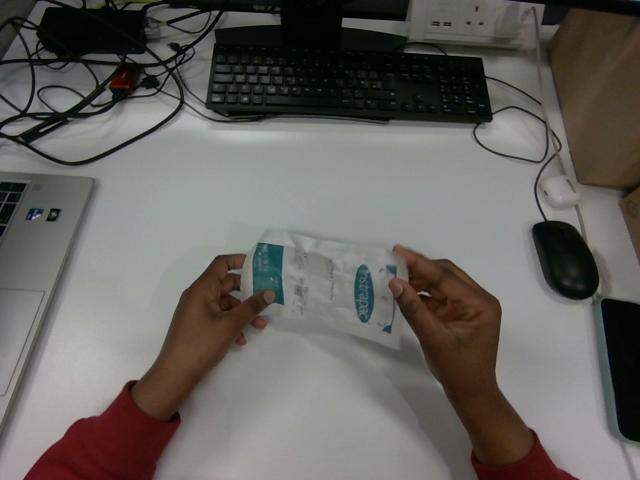gallipot: (241, 230, 407, 348)
